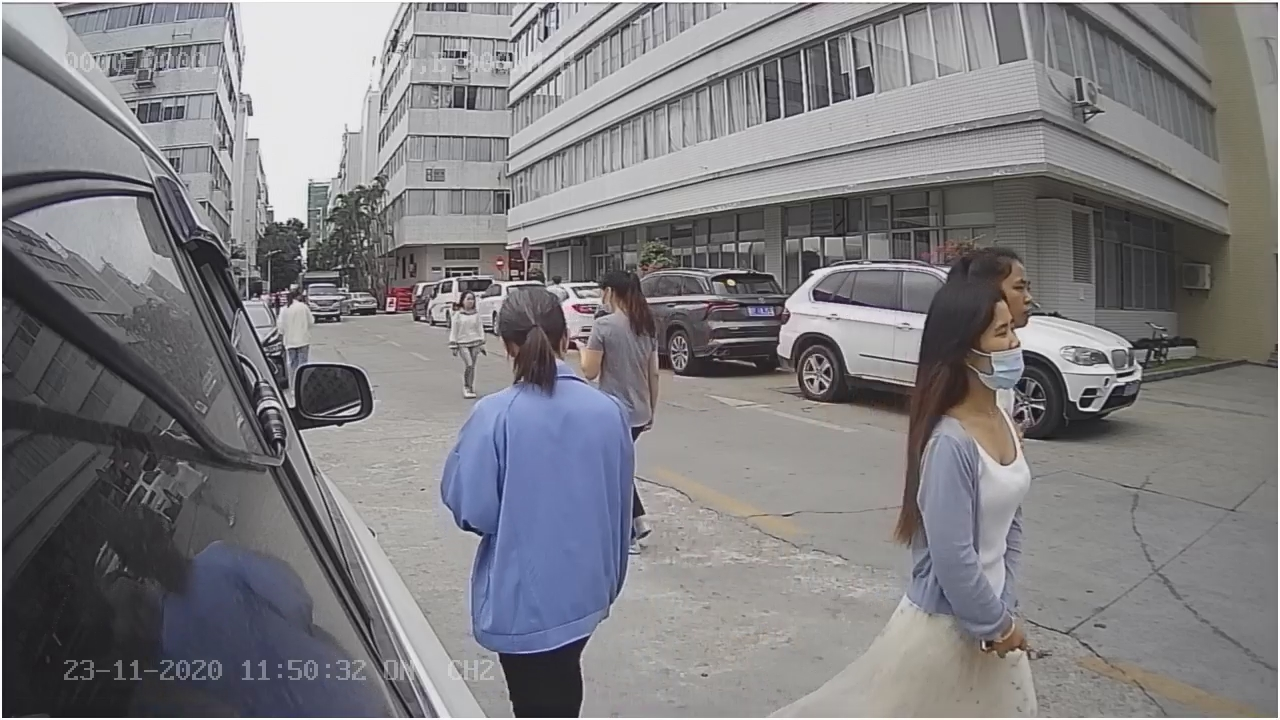person: (892, 275, 1044, 648)
